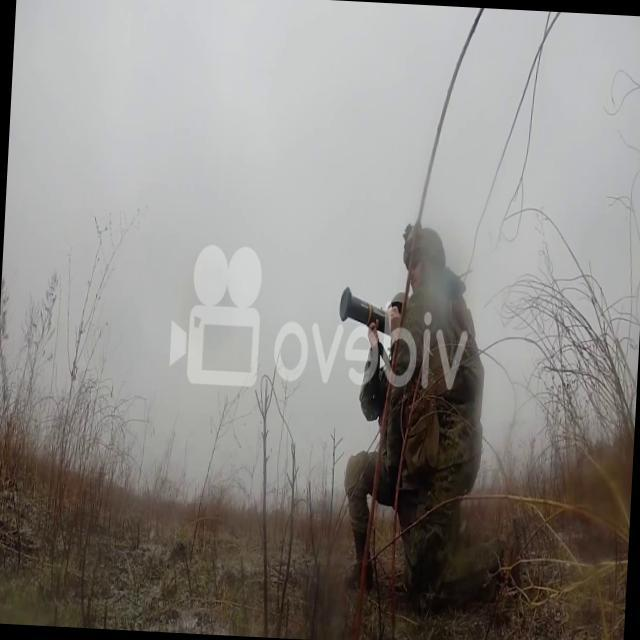rocket: (338, 286, 398, 348)
